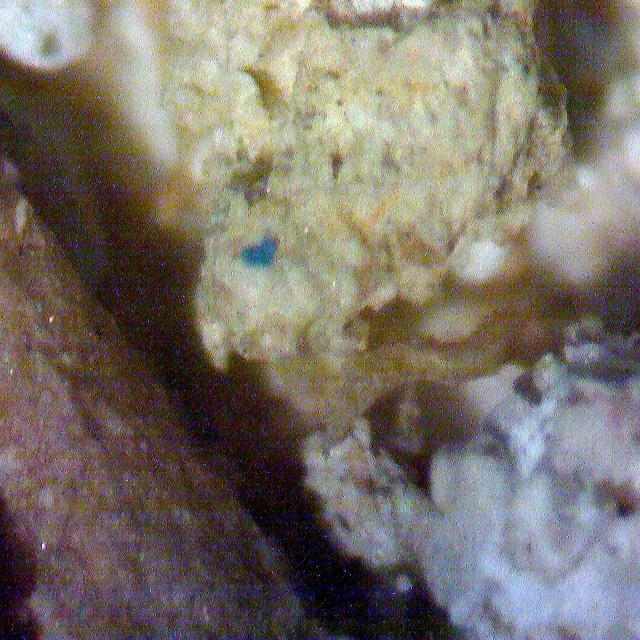microplastic: (238, 228, 287, 276)
